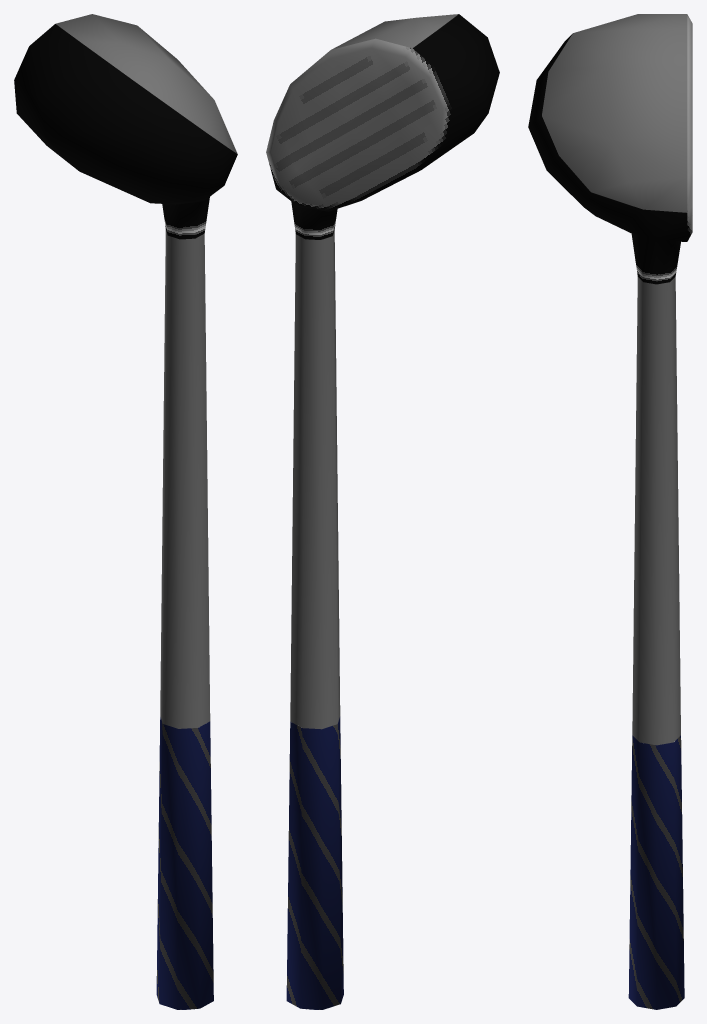
File: glf_club__glf_club_WD.glb
3 views of the same model, side by side, from view 1: azimuth 30°, elevation 25°; view 2: azimuth 150°, elevation 25°; view 3: azimuth 270°, elevation 25° (orthographic). The views are drawn at different scales.
Parts seen in each view (by area): view 1: polygon0, polygon1; view 2: polygon0, polygon1; view 3: polygon0, polygon1.
Boxes of the visible parts, x1=… form: polygon0: x1=14, y1=14, x2=237, y2=728; polygon1: x1=156, y1=717, x2=213, y2=1009; polygon0: x1=266, y1=14, x2=499, y2=729; polygon1: x1=286, y1=716, x2=343, y2=1009; polygon0: x1=528, y1=14, x2=692, y2=745; polygon1: x1=628, y1=735, x2=684, y2=1009.
Bounding box in the file's own units: 1.71 × 8.64 × 1.37.
2 materials, 2 textured.
